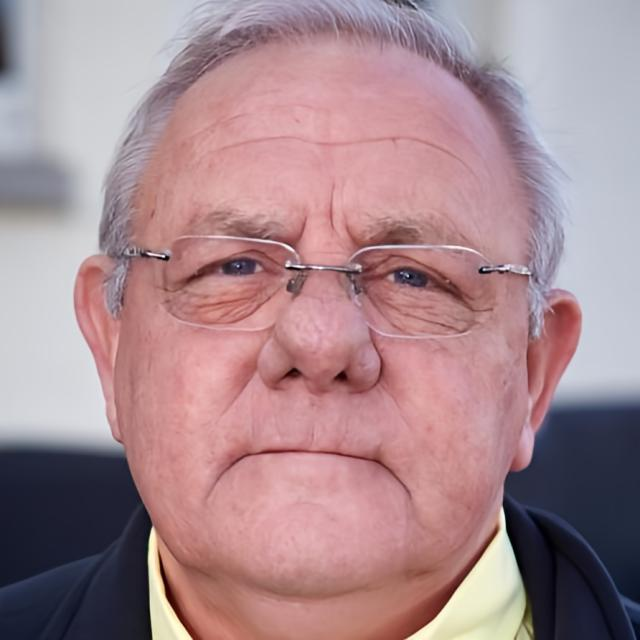anger: (123, 43, 534, 599)
